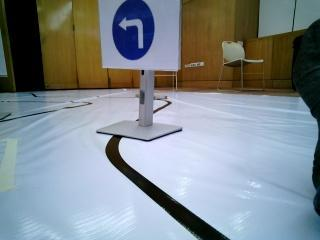left: (100, 1, 174, 63)
